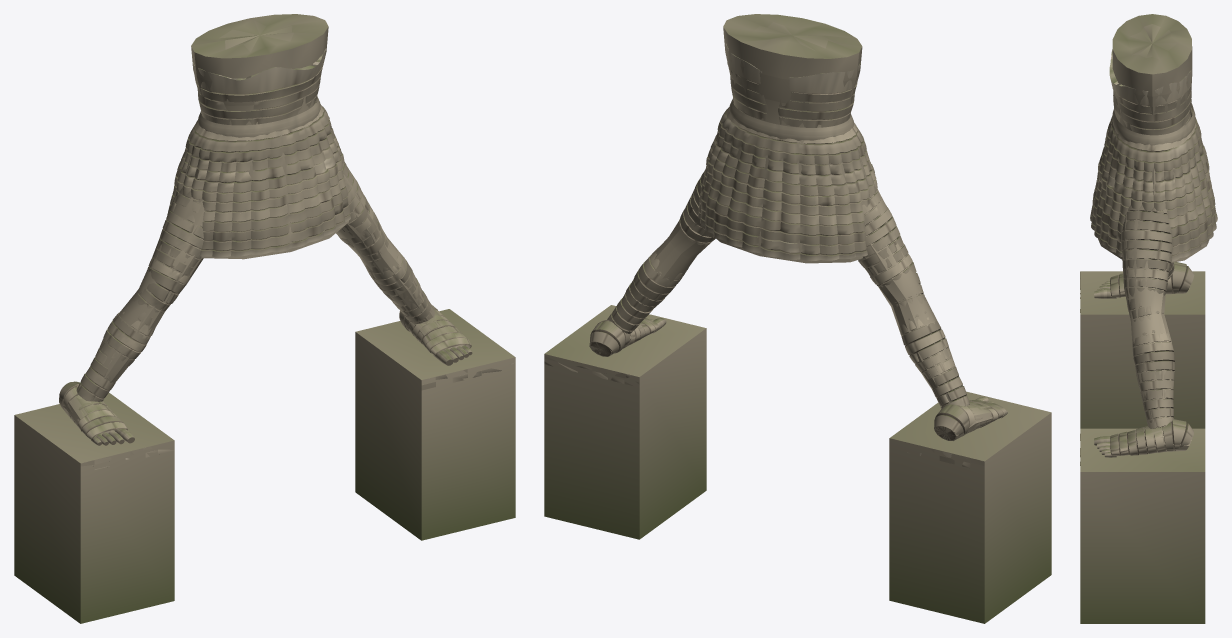
The model's file is harbour_colossus.glb.
3 views of the same model, side by side, from view 1: azimuth 30°, elevation 25°; view 2: azimuth 150°, elevation 25°; view 3: azimuth 270°, elevation 25° (orthographic). The views are drawn at different scales.
Parts seen in each view (by area): view 1: harbour_colossus_far, harbour_colossus; view 2: harbour_colossus_far, harbour_colossus; view 3: harbour_colossus_far, harbour_colossus.
Boxes of the visible parts, bbox=[...] form: harbour_colossus_far: bbox=[14, 14, 515, 623]; harbour_colossus: bbox=[59, 49, 513, 469]; harbour_colossus_far: bbox=[544, 14, 1051, 623]; harbour_colossus: bbox=[544, 43, 1007, 467]; harbour_colossus_far: bbox=[1080, 14, 1209, 623]; harbour_colossus: bbox=[1080, 49, 1217, 465].
Bounding box in the file's own units: 128 × 143 × 36.98.
